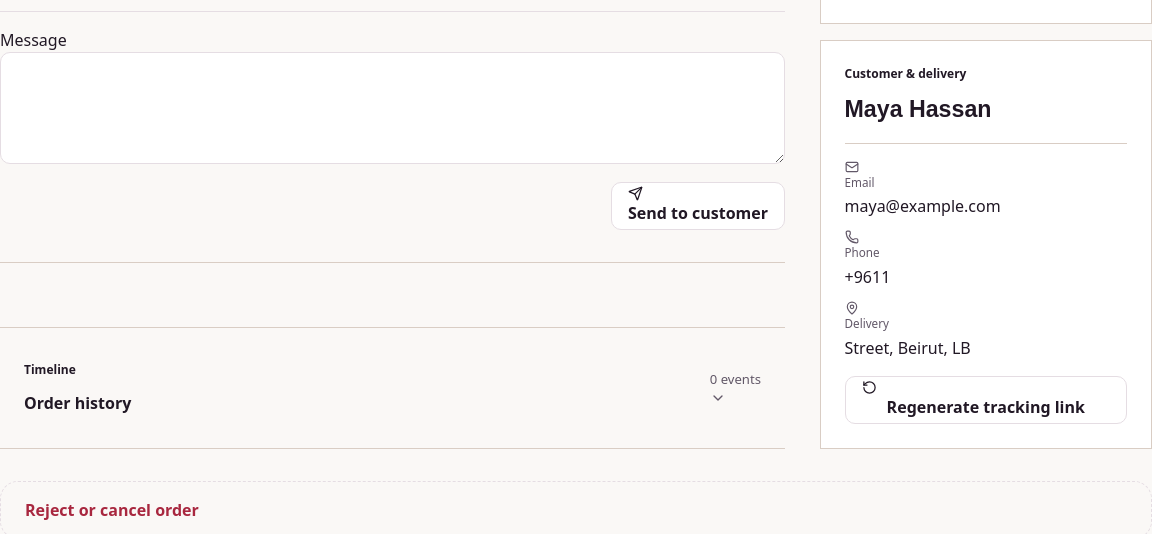
cancelling a paid order requires the exceptional confirmation and audit reason
The width and height of the screenshot is (1152, 534).
(page scrolled)
Click the heading "Reject or cancel order" at (112, 510), box 25,499 -> 199,521
(page scrolled)
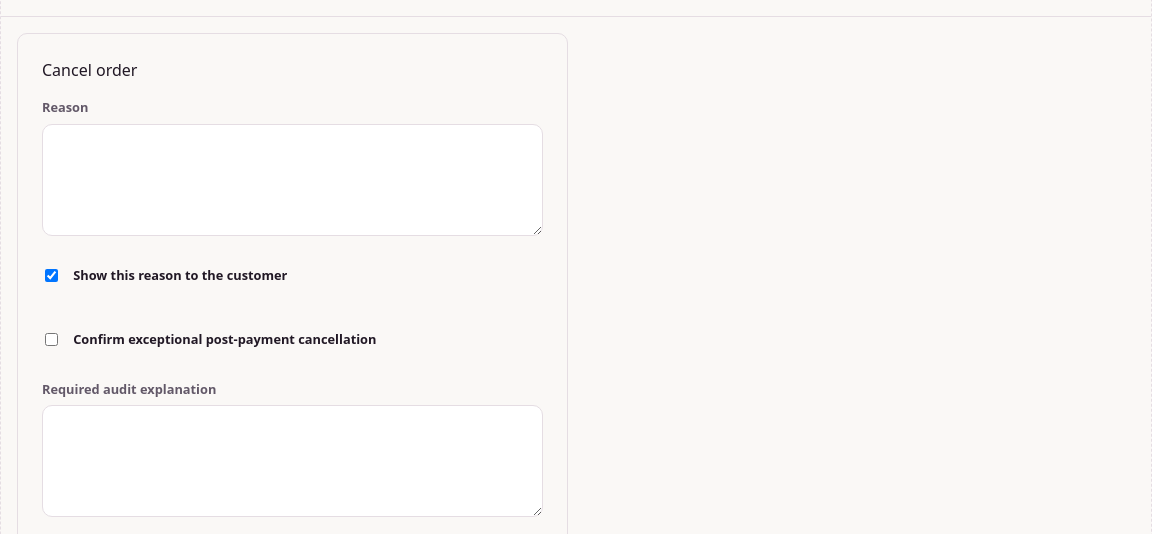
Type "Customer requested cancellation." into the text box labelled "Reason" at (292, 180), box 42,124 -> 543,236
(page scrolled)
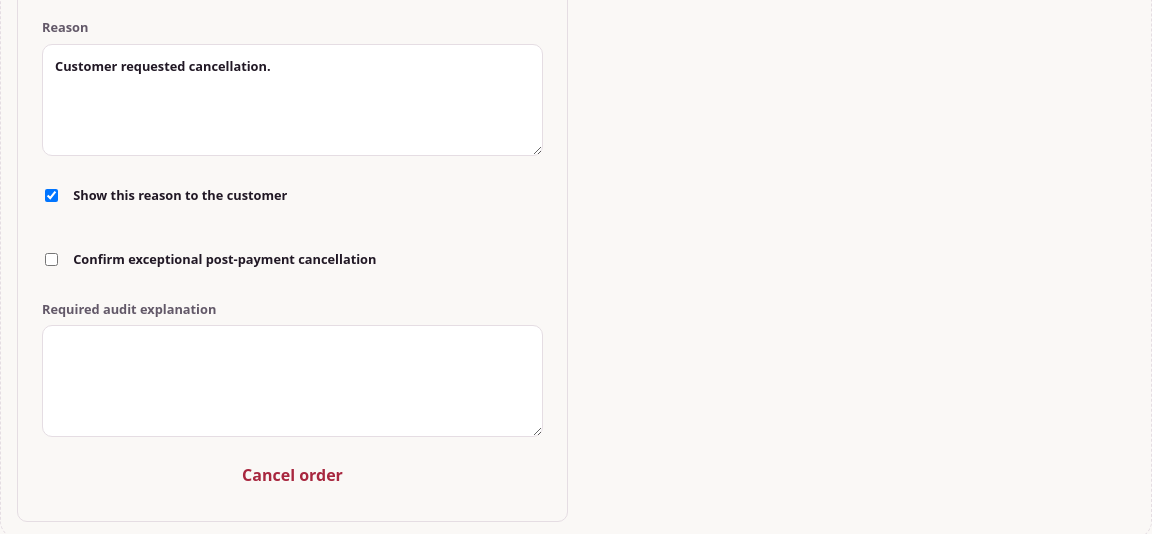
Click the button "Cancel order" at (292, 475), box 42,453 -> 543,497
(page scrolled)
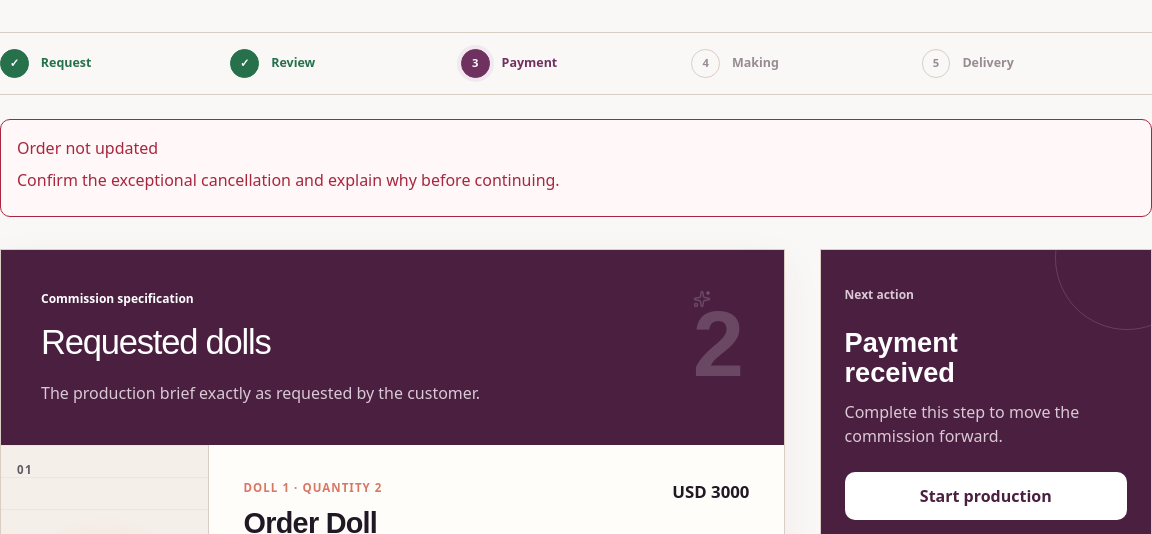
Result: the text "Confirm the exceptional cancellation and explain why before continuing." is shown at 17,169 -> 560,191
